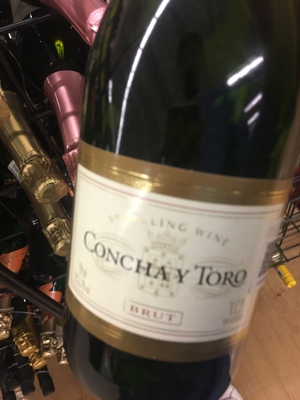brut: (67, 10, 296, 400)
